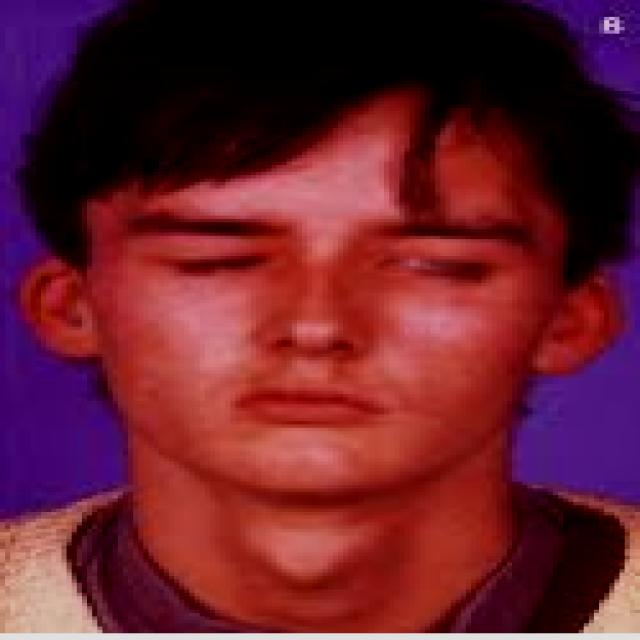stroke_face: (65, 46, 570, 502)
